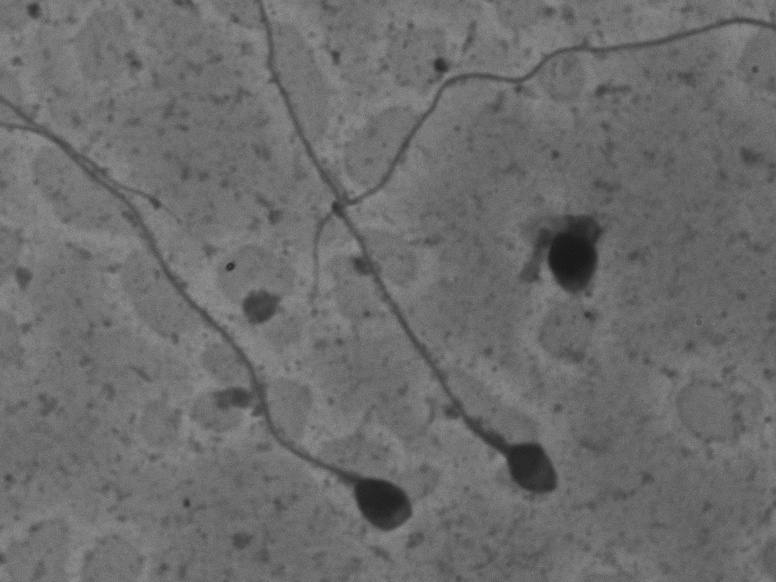Abnormal: (15, 89, 448, 551), (226, 12, 580, 507), (496, 181, 639, 312)
